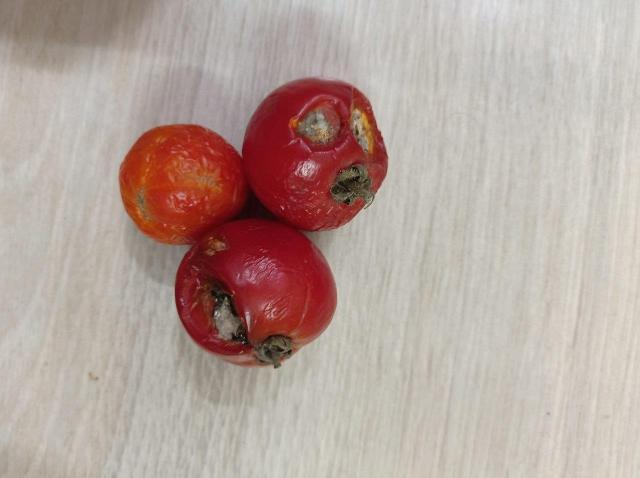defect: (172, 215, 339, 370), (239, 74, 395, 233), (118, 120, 250, 249)
